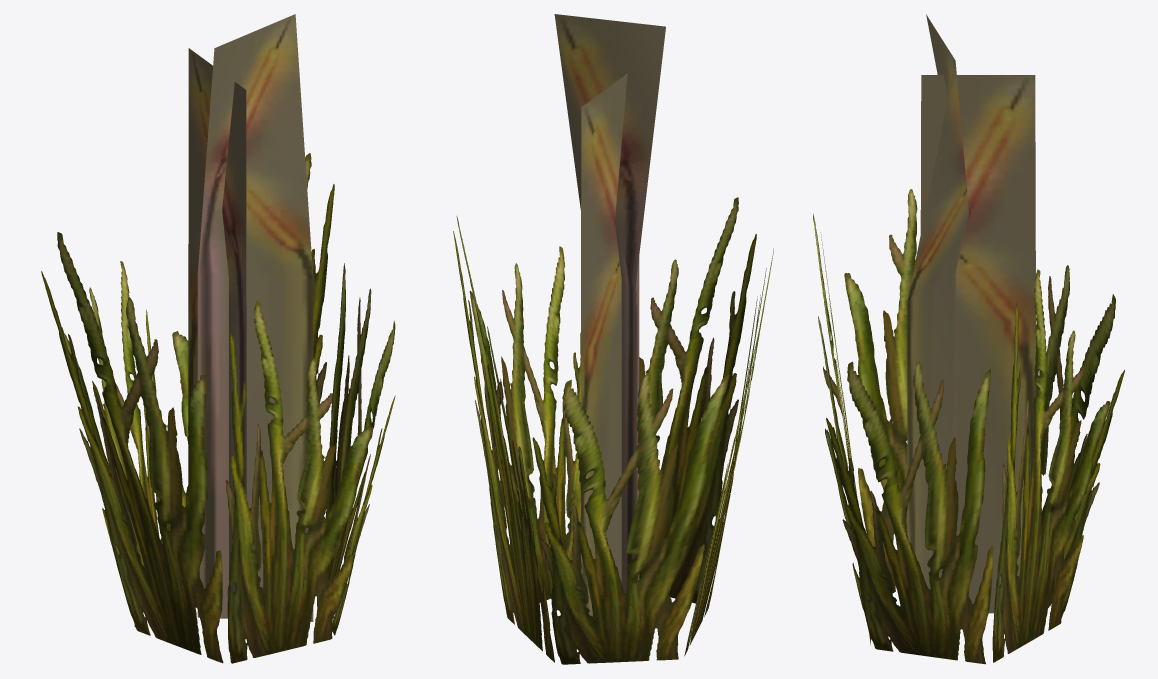
File: swampplant05.obj
3 renders of one model, left to right at view 1: azimuth 30°, elevation 25°; view 2: azimuth 150°, elevation 25°; view 3: azimuth 270°, elevation 25°, orthographic.
Parts seen in each view (by area): view 1: Geoset0, Geoset1; view 2: Geoset0, Geoset1; view 3: Geoset0, Geoset1.
Boxes of the visible parts, x1=… form: Geoset0: x1=41, y1=153, x2=395, y2=663; Geoset1: x1=188, y1=14, x2=313, y2=621; Geoset0: x1=453, y1=197, x2=773, y2=664; Geoset1: x1=554, y1=14, x2=665, y2=616; Geoset0: x1=813, y1=189, x2=1124, y2=664; Geoset1: x1=907, y1=14, x2=1035, y2=613.
Bounding box in the file's own units: 2.28 × 3.84 × 1.99.
Materials: 2 (2 with a texture image).
